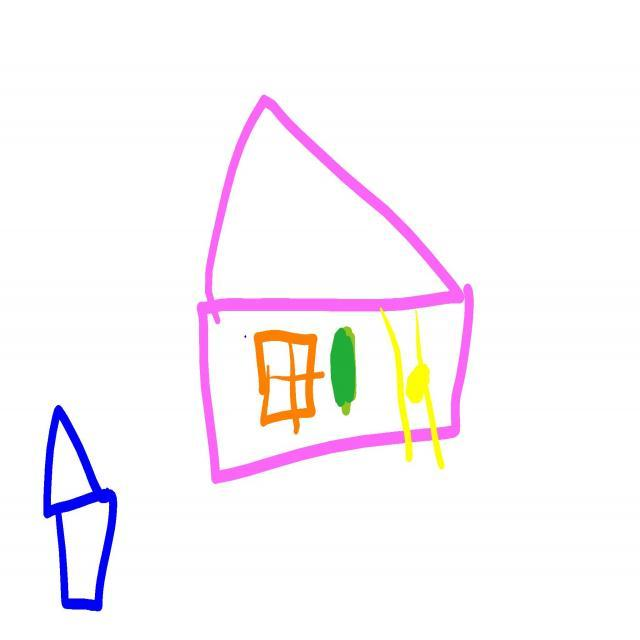door: (383, 300, 431, 448)
house: (198, 95, 475, 484)
roof: (199, 94, 474, 308)
wall: (198, 298, 462, 454)
window: (254, 331, 325, 434)
